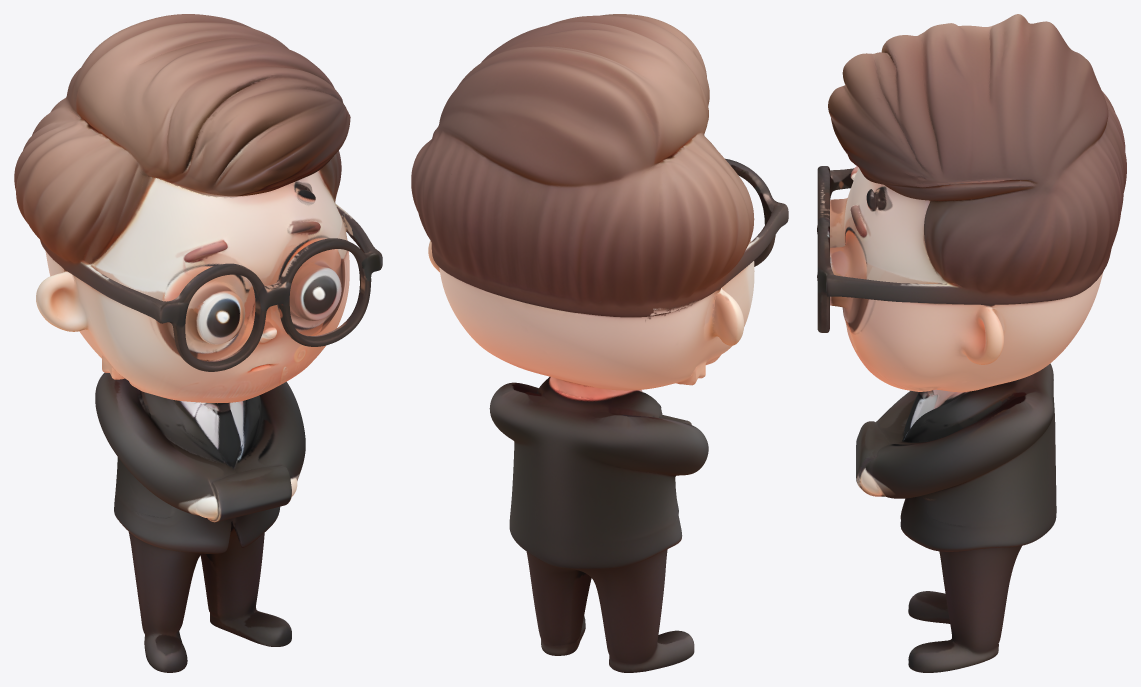
Rendered from male-avatar5.glb.
The picture shows the model from 3 angles, left to right: view 1: azimuth 30°, elevation 25°; view 2: azimuth 150°, elevation 25°; view 3: azimuth 270°, elevation 25°; orthographic projection. The views are drawn at different scales.
Parts seen in each view (by area): view 1: model; view 2: model; view 3: model.
Boxes of the visible parts, x1,y1,x2,y2 form: model: (14, 14, 382, 672); model: (411, 14, 788, 672); model: (817, 14, 1126, 672).
Size of the model in its own units: 1 by 1.9 by 0.8801.
Materials: 1 (1 with a texture image).
